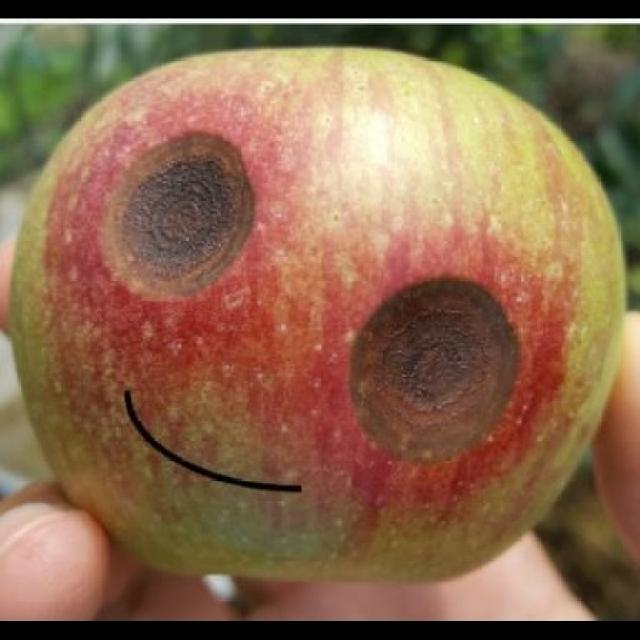Rotten Apple: (6, 42, 628, 586)
